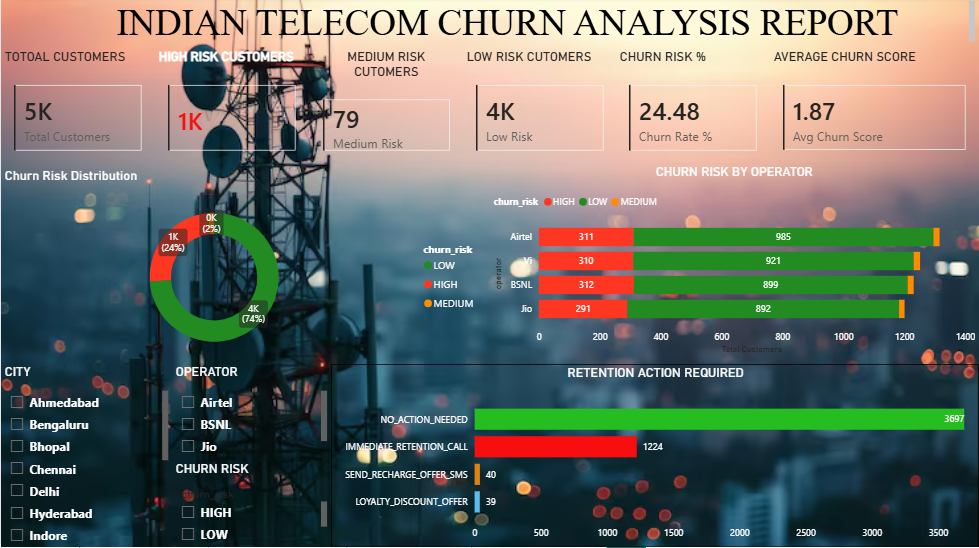

The dashboard page shown, as its layout file describes it:
{"tool":"powerbi","page":{"name":"Churn OverView","canvas":[1280,720],"ordinal":0},"visuals":[{"type":"textbox","box":[64,0,1216,64],"z":0},{"type":"cardVisual","title":"TOTOAL CUSTOMERS ","fields":{"Data":["fact_churn.Total Customers"]},"box":[0,68.3,201.7,150],"z":1000},{"type":"cardVisual","title":"HIGH RISK CUSTOMERS","fields":{"Data":["fact_churn.High Risk"]},"box":[201.7,68.3,201.7,150],"z":2000},{"type":"cardVisual","title":"MEDIUM RISK CUTOMERS ","fields":{"Data":["fact_churn.Medium Risk"]},"box":[405,68.3,200,150],"z":3000},{"type":"cardVisual","title":"LOW RISK CUTOMERS ","fields":{"Data":["fact_churn.Low Risk"]},"box":[604.3,68.6,201,150],"z":4000},{"type":"cardVisual","title":"CHURN RISK % ","fields":{"Data":["fact_churn.Churn Rate %"]},"box":[805,68.3,201.7,150],"z":5000},{"type":"cardVisual","title":"AVERAGE CHURN SCORE","fields":{"Data":["fact_churn.Avg Churn Score"]},"box":[1006,68.5,274,149.2],"z":6000},{"type":"donutChart","title":"Churn Risk Distribution","fields":{"Category":["dim_customer.churn_risk"],"Y":["fact_churn.Total Customers"]},"box":[0,224,640,256],"z":7000},{"type":"barChart","title":"CHURN RISK BY OPERATOR","fields":{"Category":["dim_customer.operator"],"Series":["dim_customer.churn_risk"],"Y":["fact_churn.Total Customers"]},"box":[640,218.3,640,253.3],"z":8000},{"type":"barChart","title":"RETENTION ACTION REQUIRED","fields":{"Category":["dim_customer.recommended_action"],"Y":["fact_churn.Total Customers"]},"box":[432,480,848,240],"z":9000},{"type":"slicer","title":"CITY ","fields":{"Values":["dim_customer.city"]},"box":[0,480,224,240],"z":10000},{"type":"slicer","title":"OPERATOR","fields":{"Values":["dim_customer.operator"]},"box":[224,480,208,128],"z":11000},{"type":"slicer","title":"CHURN RISK","fields":{"Values":["dim_customer.churn_risk"]},"box":[224,608,208,112],"z":12000}]}

Visuals, with their boxes in screenshot pixels (x1, y1, x2, y2), scaled from the page's 1280x720 canvas onto the 979x548 screenshot:
textbox: [49, 0, 978, 49]
"TOTOAL CUSTOMERS " cardVisual: [0, 52, 154, 166]
"HIGH RISK CUSTOMERS" cardVisual: [154, 52, 309, 166]
"MEDIUM RISK CUTOMERS " cardVisual: [310, 52, 463, 166]
"LOW RISK CUTOMERS " cardVisual: [462, 52, 616, 166]
"CHURN RISK % " cardVisual: [616, 52, 770, 166]
"AVERAGE CHURN SCORE" cardVisual: [769, 52, 978, 166]
"Churn Risk Distribution" donutChart: [0, 170, 490, 365]
"CHURN RISK BY OPERATOR" barChart: [490, 166, 978, 359]
"RETENTION ACTION REQUIRED" barChart: [330, 365, 978, 547]
"CITY " slicer: [0, 365, 171, 547]
"OPERATOR" slicer: [171, 365, 330, 463]
"CHURN RISK" slicer: [171, 463, 330, 547]
